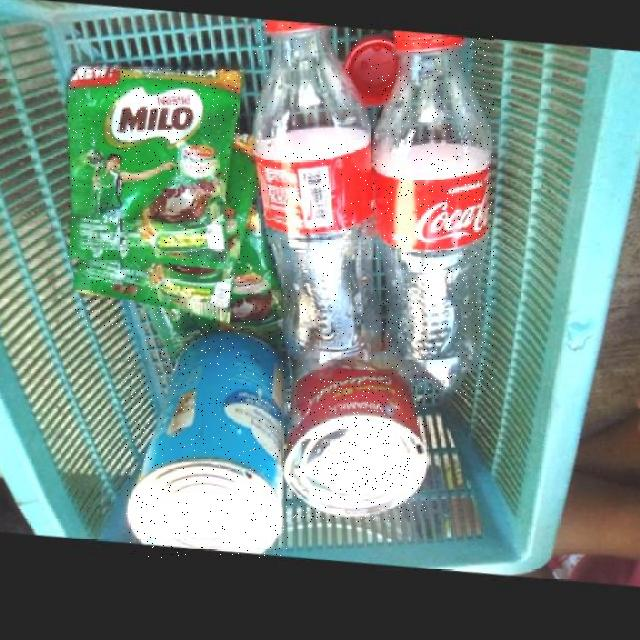metal: (125, 333, 288, 558), (285, 358, 428, 521)
plastic: (254, 24, 383, 380), (375, 36, 494, 397)
wrapper: (69, 68, 243, 272), (73, 137, 259, 327), (145, 189, 284, 362)
